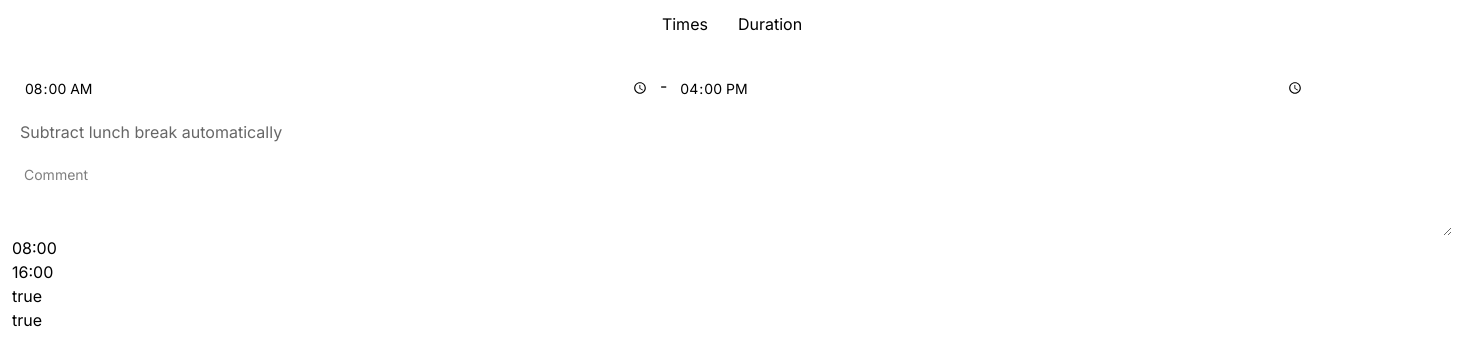
Scenario: WorklogInputs › clearing the To field in Times mode reports invalid
Clear the 2nd time field with placeholder "To" at (991, 88), box [667,68,1315,108]
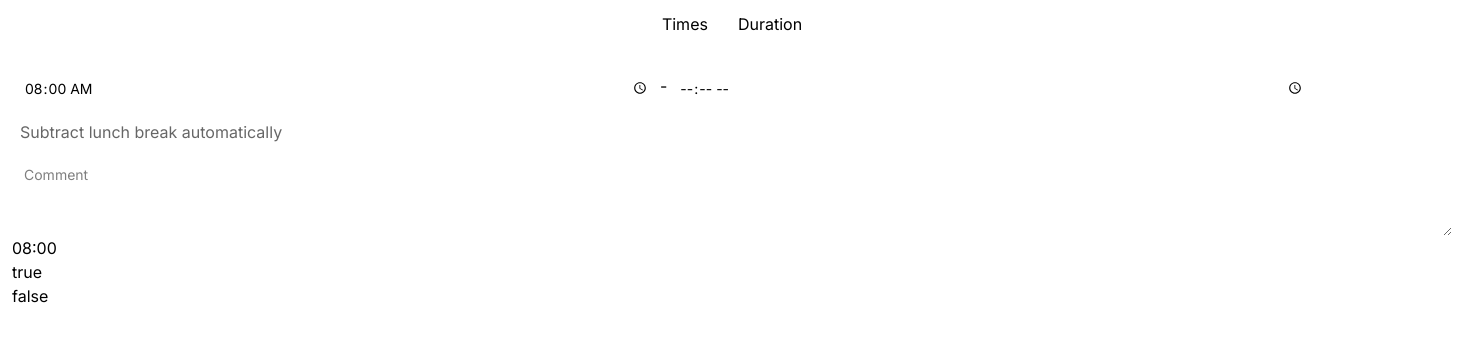
Expected: the text with test id "valid" reads "false", [12,286,48,306]
